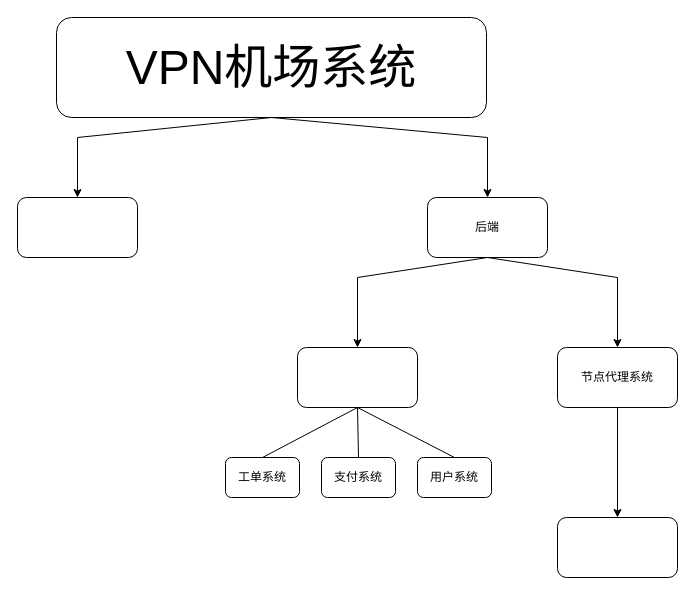
The diagram is 695 pixels wide and 595 high, and some of its shapes have lost their labels. Here are the shapes that lost their labels. From the top down, the box of each, then its label:
(16, 196, 138, 258): 前端
(296, 346, 418, 408): 非节点代理系统
(556, 516, 678, 578): 3x-ui面板
